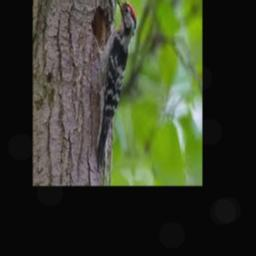Woodpecker: (91, 0, 136, 170)
